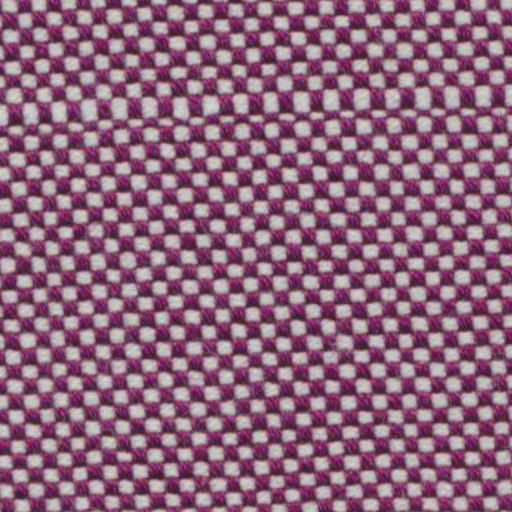TuoSha: (16, 71, 500, 158)
